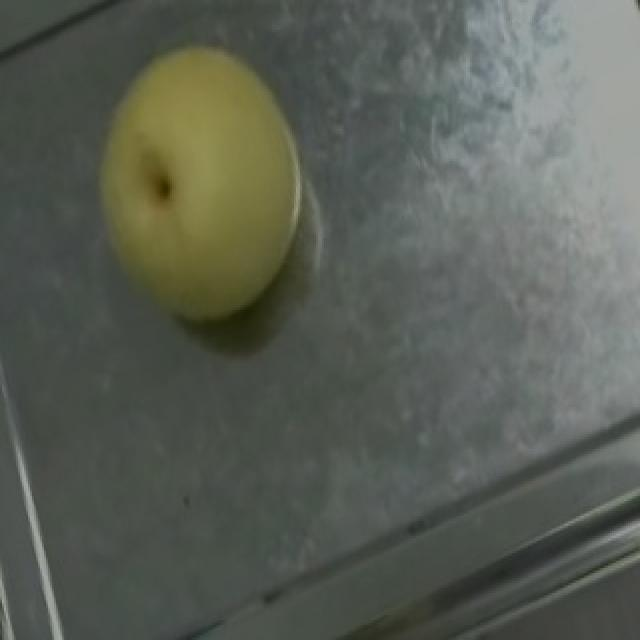Fruit: (46, 5, 350, 360)
